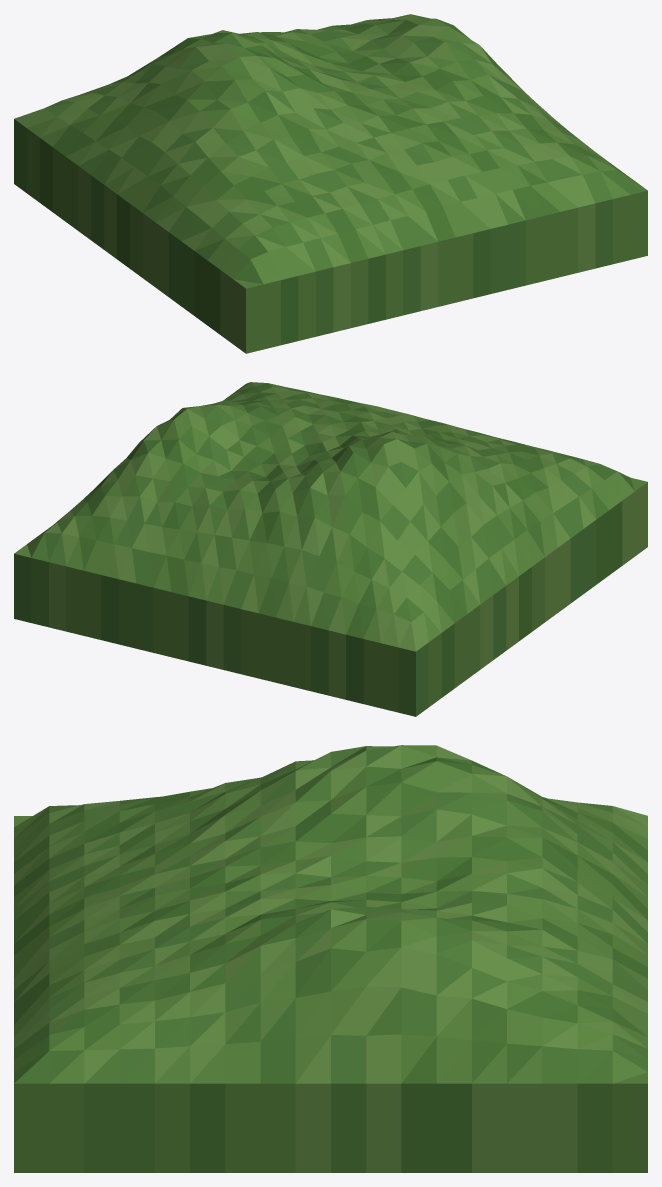
File: forestHillB.glb
3 views of the same model, one above another, from view 1: azimuth 30°, elevation 25°; view 2: azimuth 150°, elevation 25°; view 3: azimuth 270°, elevation 25° (orthographic). The views are drawn at different scales.
Visible parts, largest first — view 1: MountainMesh.003; view 2: MountainMesh.003; view 3: MountainMesh.003.
Boxes of the visible parts, left/top/right/bottom form: MountainMesh.003: left=14, top=14, right=647, bottom=353; MountainMesh.003: left=14, top=382, right=647, bottom=716; MountainMesh.003: left=14, top=745, right=647, bottom=1172.
Bounding box in the file's own units: 2 × 0.8399 × 2.
